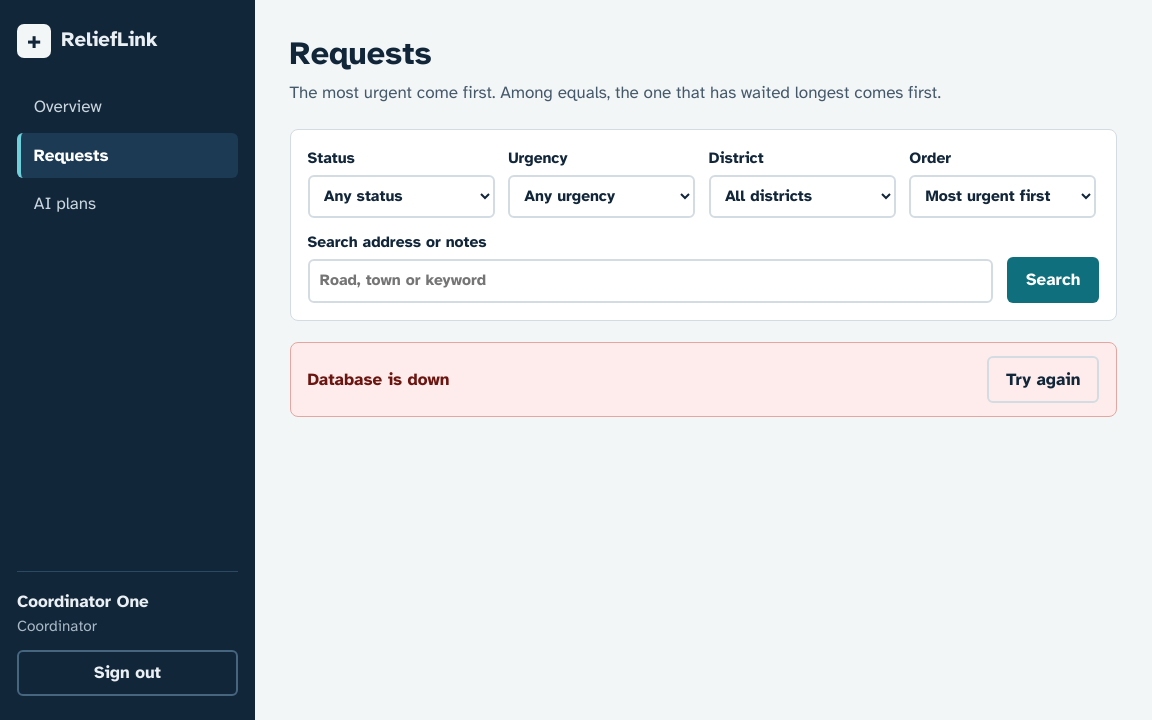
Requests queue › shows the error and lets the coordinator retry
Expected: the message shows "Database is down", [308,369,449,390]
Click the button "Try again".
click(1043, 380)  # box [987,356,1100,403]
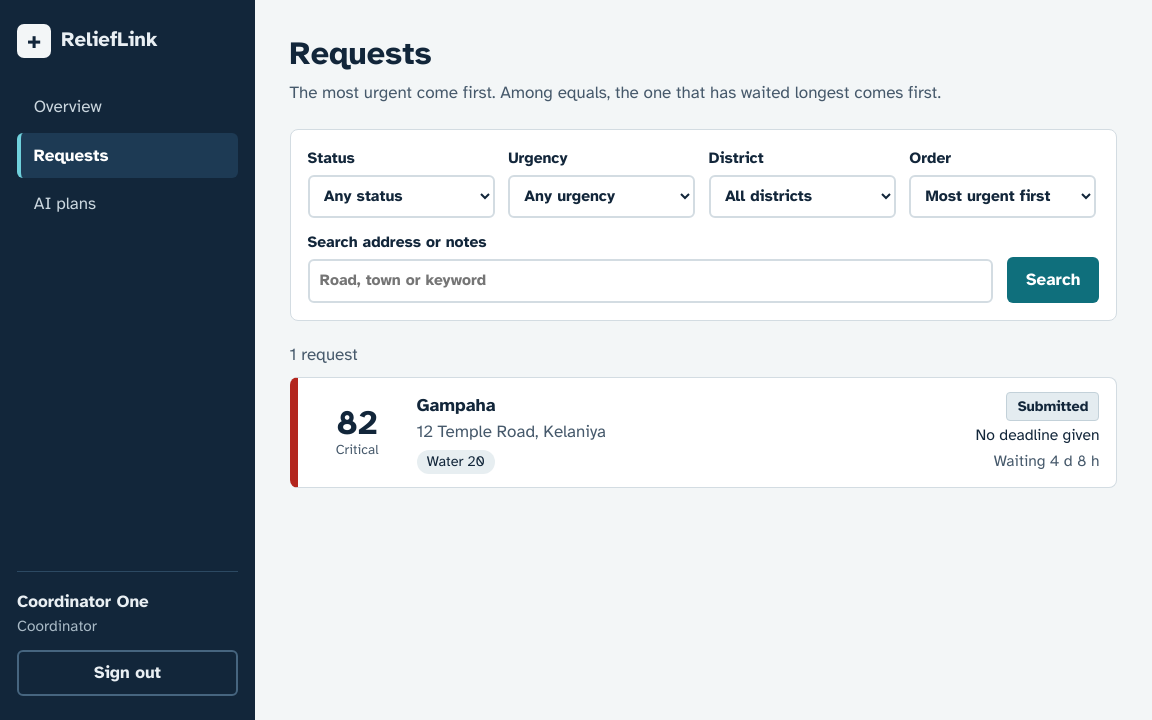
Expected: the text "1 request" is shown, [290,344,358,365]
